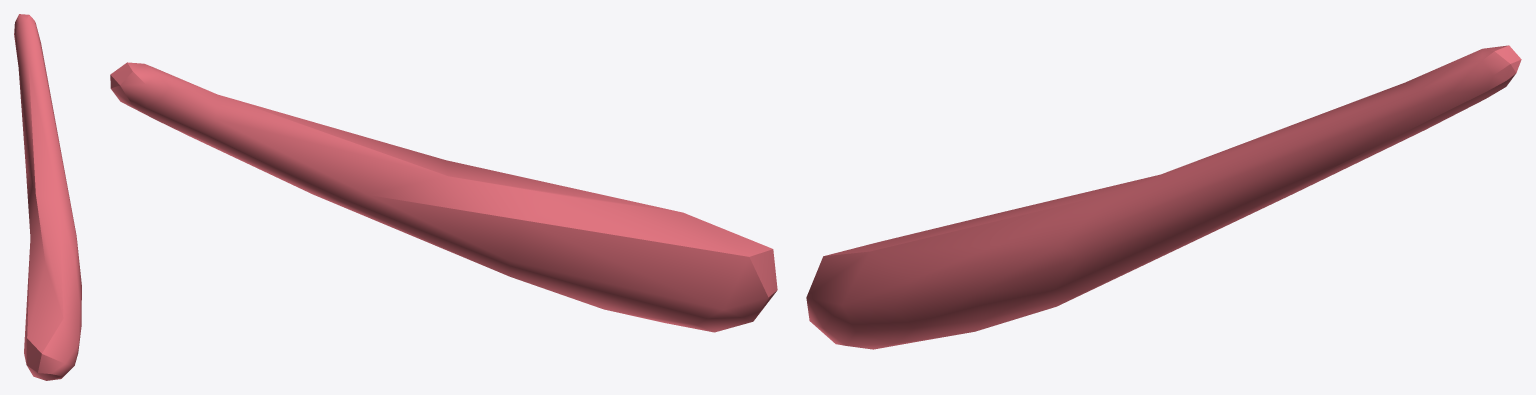
Rendered from fma9438_fj2965.glb.
3 views of the same model, side by side, from view 1: azimuth 30°, elevation 25°; view 2: azimuth 150°, elevation 25°; view 3: azimuth 270°, elevation 25° (orthographic). The views are drawn at different scales.
Visible parts, largest first — view 1: FMA9438_FJ2965; view 2: FMA9438_FJ2965; view 3: FMA9438_FJ2965.
Part boxes in pixels (left/top/right/bottom): FMA9438_FJ2965: left=14, top=14, right=81, bottom=380; FMA9438_FJ2965: left=110, top=62, right=777, bottom=332; FMA9438_FJ2965: left=806, top=45, right=1521, bottom=349.
Size of the model in its own units: 0.00708 by 0.00866 by 0.0131.
